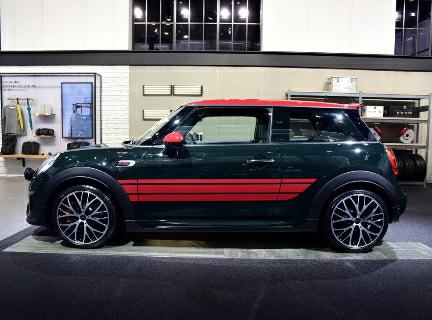MINI-JCW: (22, 93, 419, 252)
